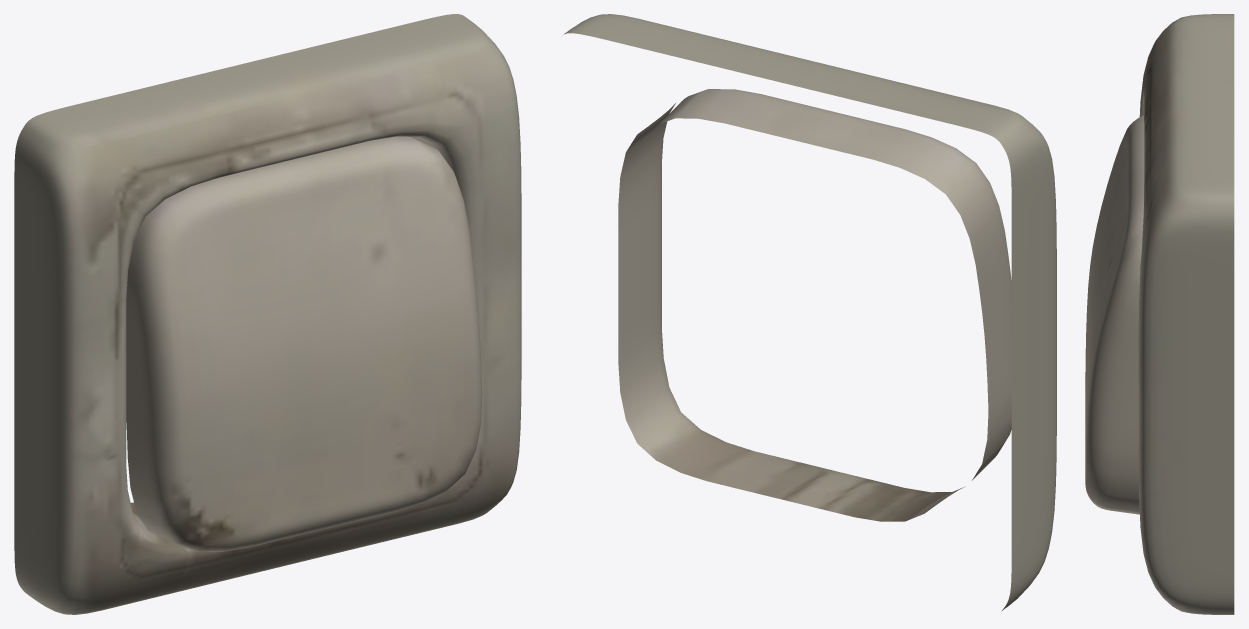
Rendered from e_interruptor_sucio.glb.
The picture shows the model from 3 angles, left to right: view 1: azimuth 30°, elevation 25°; view 2: azimuth 150°, elevation 25°; view 3: azimuth 270°, elevation 25°; orthographic projection. The views are drawn at different scales.
Parts seen in each view (by area): view 1: Object_2; view 2: Object_2; view 3: Object_2.
Part boxes in pixels (left/top/right/bottom): Object_2: left=14, top=14, right=521, bottom=614; Object_2: left=563, top=14, right=1056, bottom=611; Object_2: left=1085, top=14, right=1234, bottom=614.
Size of the model in its own units: 0.12 by 0.12 by 0.0384.
Materials: 1 (1 with a texture image).
